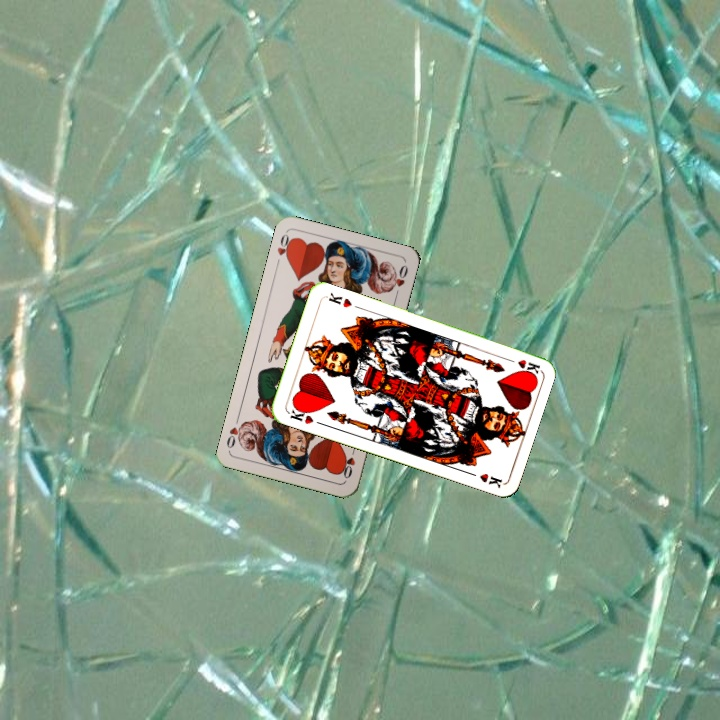HK: (501, 353, 542, 376), (284, 402, 316, 427)
HO: (272, 230, 296, 269), (339, 442, 359, 481)
